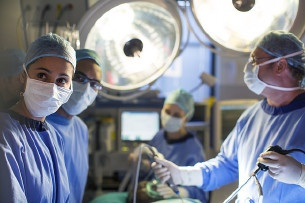Mask: (26, 65, 77, 116)
